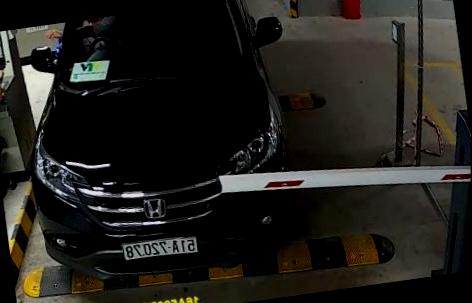License_Plate: (116, 234, 199, 268)
